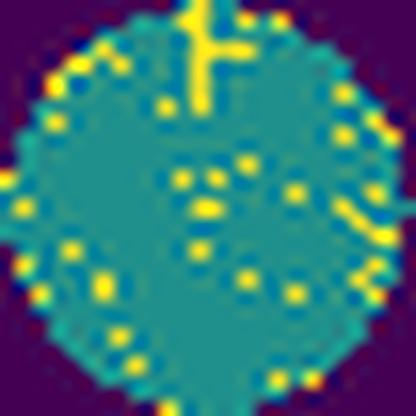Scratch: (172, 0, 261, 118), (328, 196, 399, 252)
